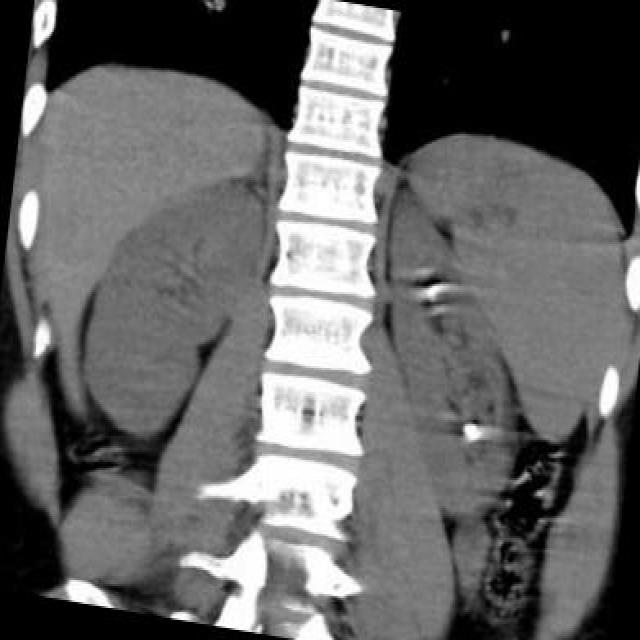Tas_Var: (463, 419, 477, 433), (466, 431, 480, 443)
